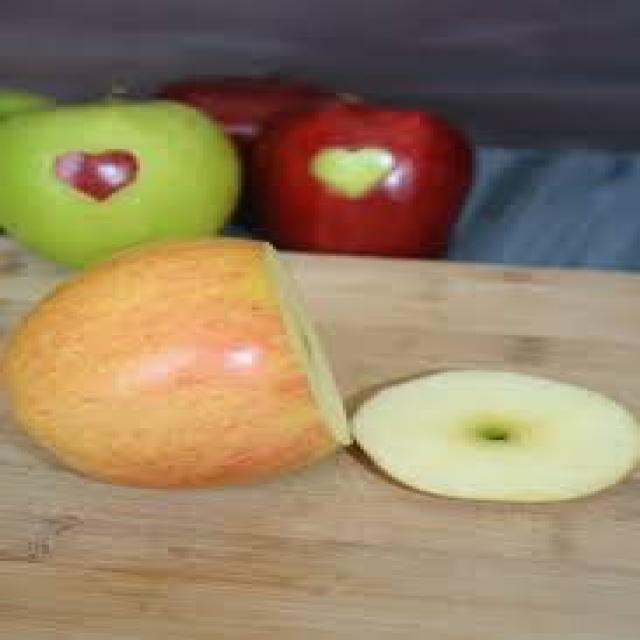Apple: (5, 236, 353, 491), (355, 369, 640, 504), (248, 111, 493, 256), (0, 102, 241, 233)
